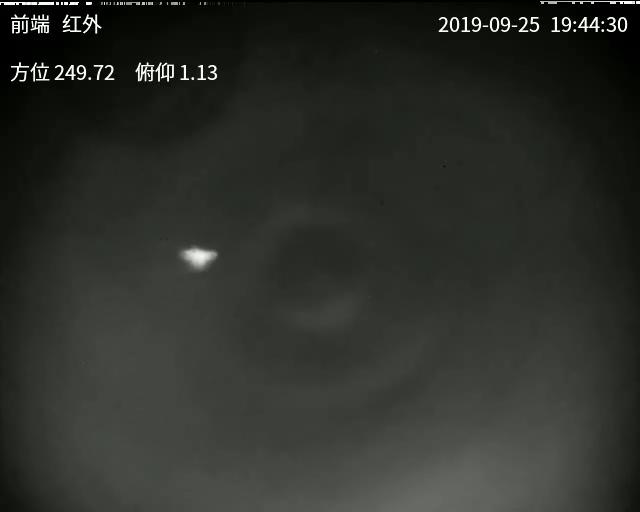uav: (180, 241, 231, 270)
